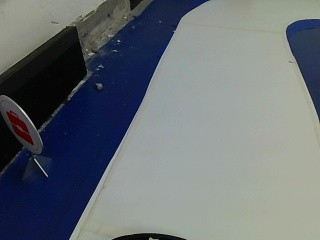company: (0, 92, 45, 154)
